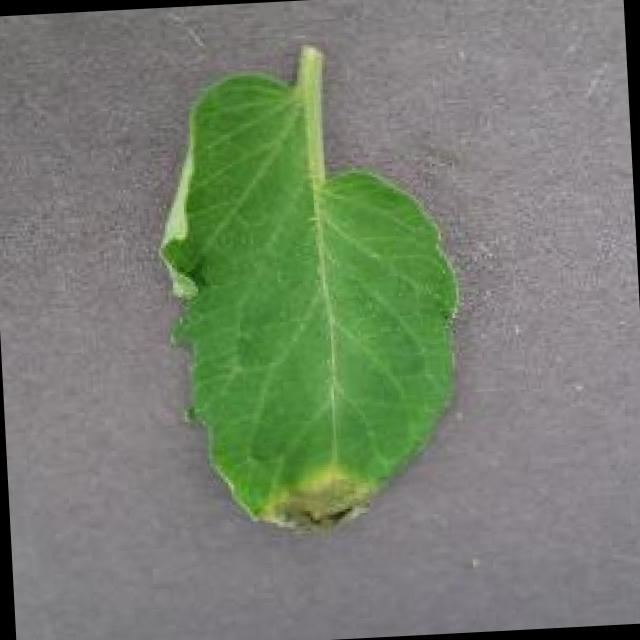Tomato_Late_Blight: (244, 442, 384, 535)
